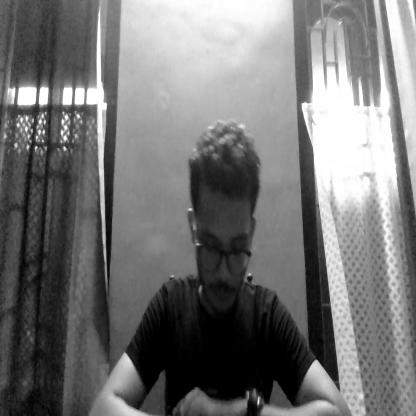Distracted: (186, 119, 265, 341)
